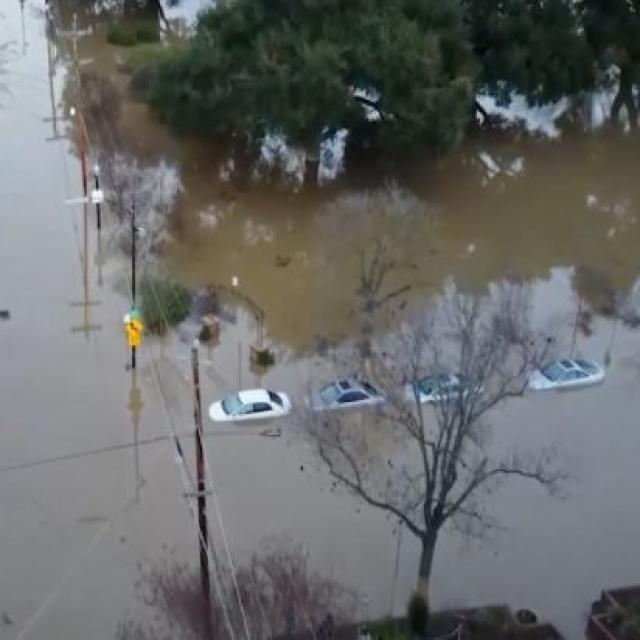flooded_areas: (0, 101, 638, 619)
